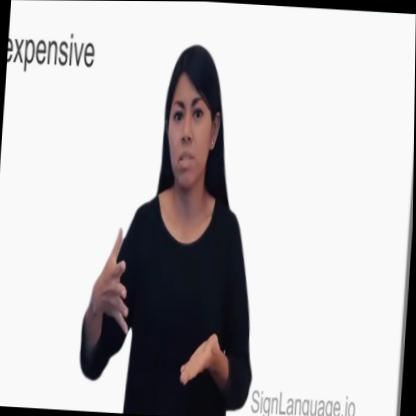Expensive: (73, 197, 237, 416)
